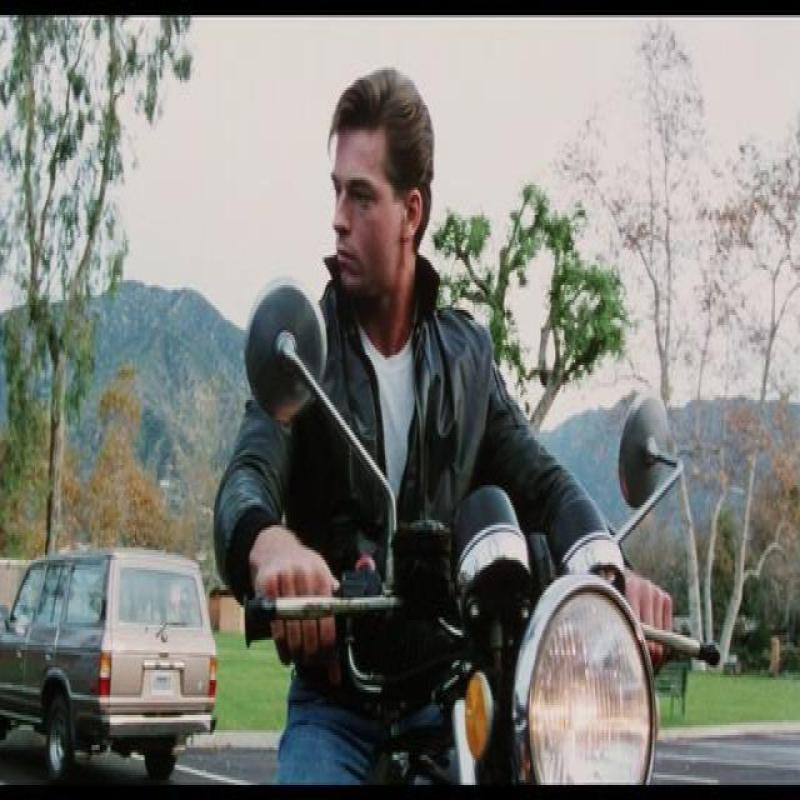nohelmet: (328, 58, 453, 287)
